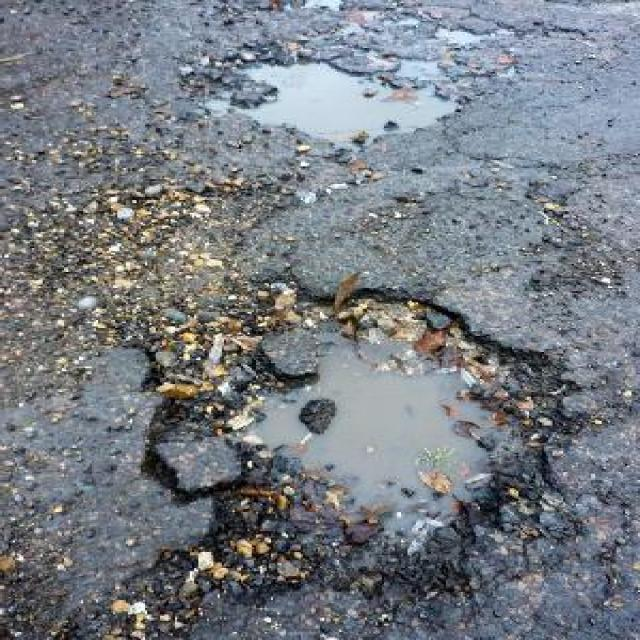Pothole: (118, 291, 590, 618), (182, 46, 475, 147)
